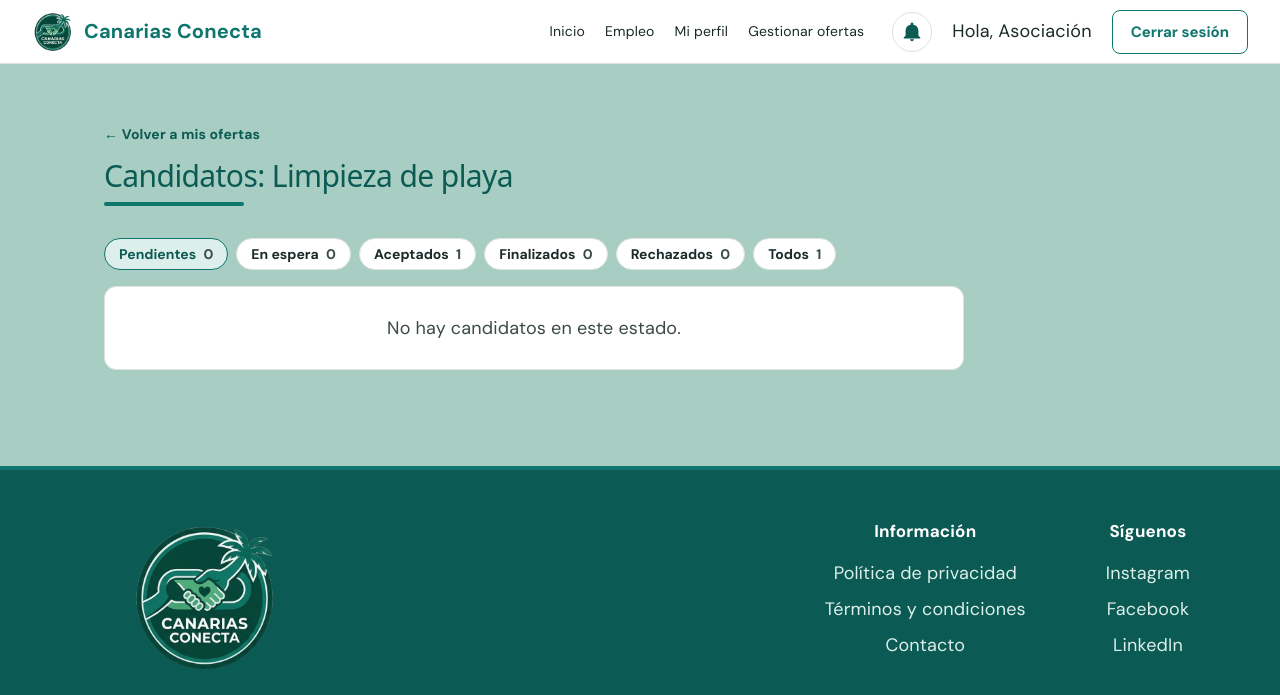
Test: Candidatos › no deja confirmar la asistencia antes de que termine el turno
Step 1. Click the tab "Aceptados 1" → (418, 254), box 359,238 -> 476,270
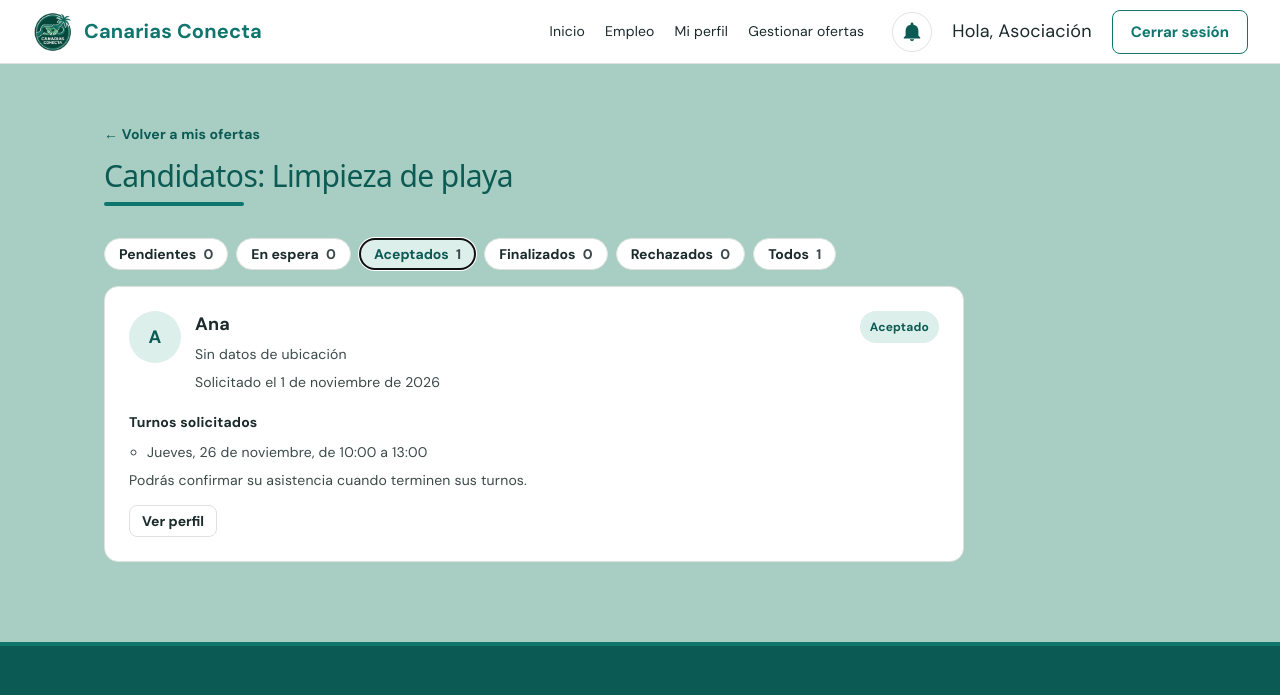
Result: the text "Podrás confirmar su asistencia cuando terminen sus turnos." is shown at 129,471 -> 527,489
